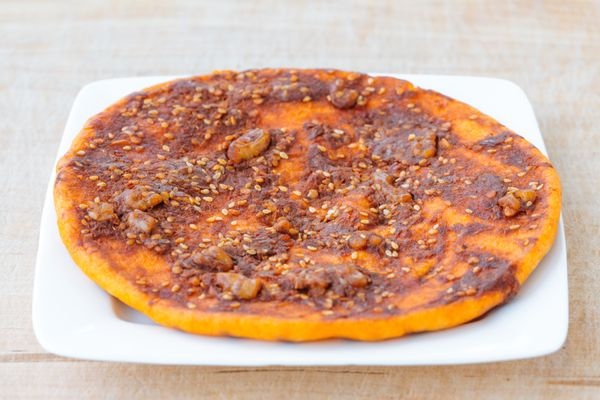curry: (2, 1, 581, 392)
sandwich: (54, 67, 555, 342)
